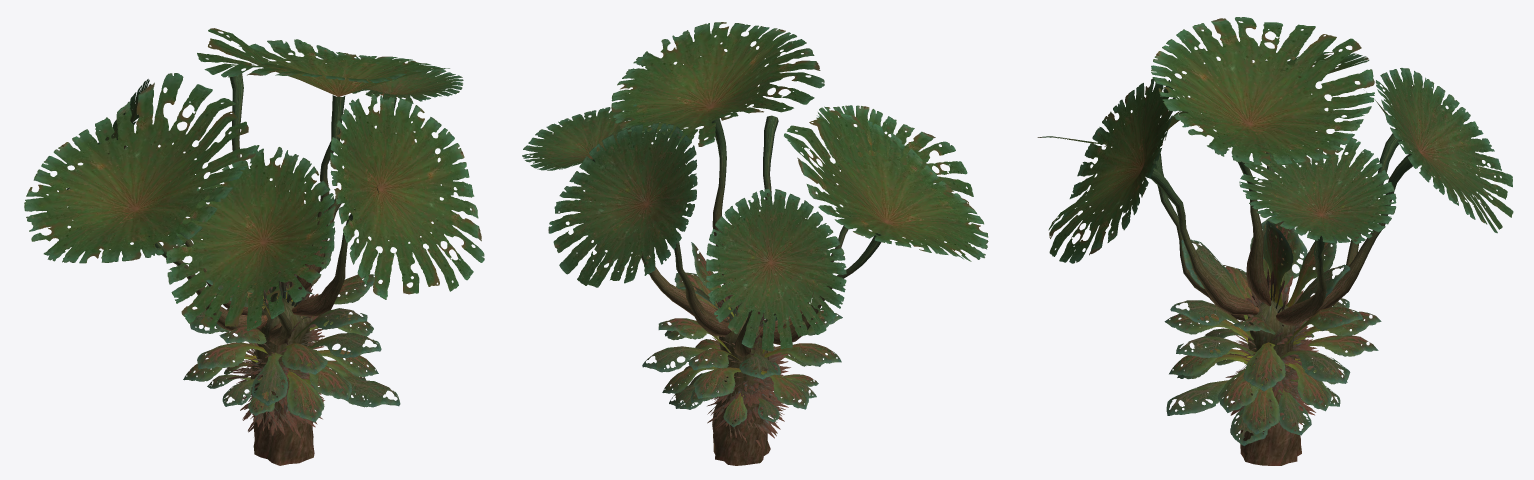
The model's file is Plant - Alien Plant 02 2-CMxzb4i9.glb.
3 views of the same model, side by side, from view 1: azimuth 30°, elevation 25°; view 2: azimuth 150°, elevation 25°; view 3: azimuth 270°, elevation 25° (orthographic). The views are drawn at different scales.
Visible parts, largest first — view 1: Plant2_2(Clone); view 2: Plant2_2(Clone); view 3: Plant2_2(Clone).
Boxes of the visible parts, bbox=[...] form: Plant2_2(Clone): bbox=[24, 28, 484, 465]; Plant2_2(Clone): bbox=[522, 22, 988, 465]; Plant2_2(Clone): bbox=[1037, 17, 1513, 465].
Bounding box in the file's own units: 3.79 × 3.31 × 3.58.
2 materials, 2 textured.
